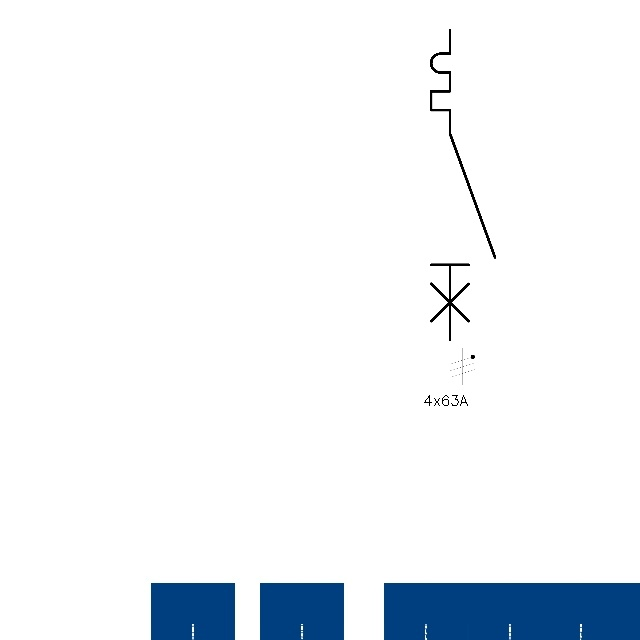interruptor_termomagnetico: (423, 22, 502, 348)
